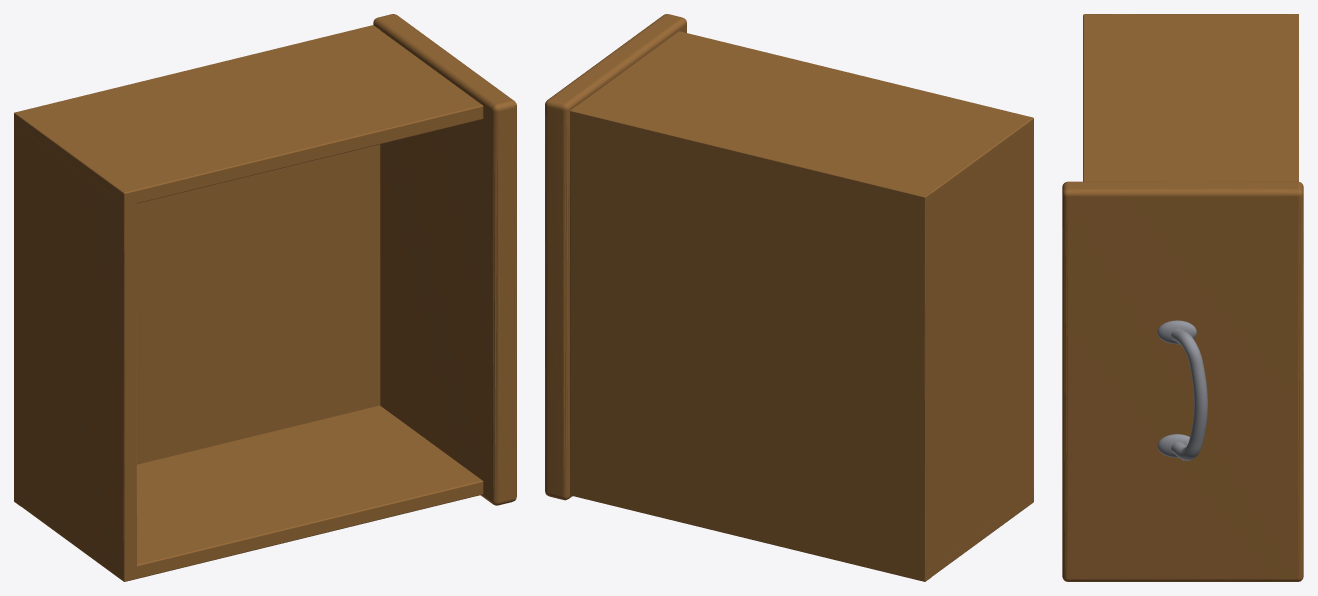
The picture shows the model from 3 angles, left to right: view 1: azimuth 30°, elevation 25°; view 2: azimuth 150°, elevation 25°; view 3: azimuth 270°, elevation 25°; orthographic projection. The views are drawn at different scales.
Visible parts, largest first — view 1: __articraft_commit_0001_0001, __articraft_commit_0001_0000; view 2: __articraft_commit_0001_0001, __articraft_commit_0001_0000; view 3: __articraft_commit_0001_0000, __articraft_commit_0001_0001, __articraft_commit_0001_0002.
Part boxes in pixels (x1,y1,x2,y2): __articraft_commit_0001_0001: (14,25,483,581); __articraft_commit_0001_0000: (373,14,516,505); __articraft_commit_0001_0001: (570,31,1033,581); __articraft_commit_0001_0000: (545,14,686,500); __articraft_commit_0001_0000: (1062,181,1303,581); __articraft_commit_0001_0001: (1083,14,1298,181); __articraft_commit_0001_0002: (1157,320,1207,460).
Size of the model in its own units: 0.4134 by 0.373 by 0.208.
